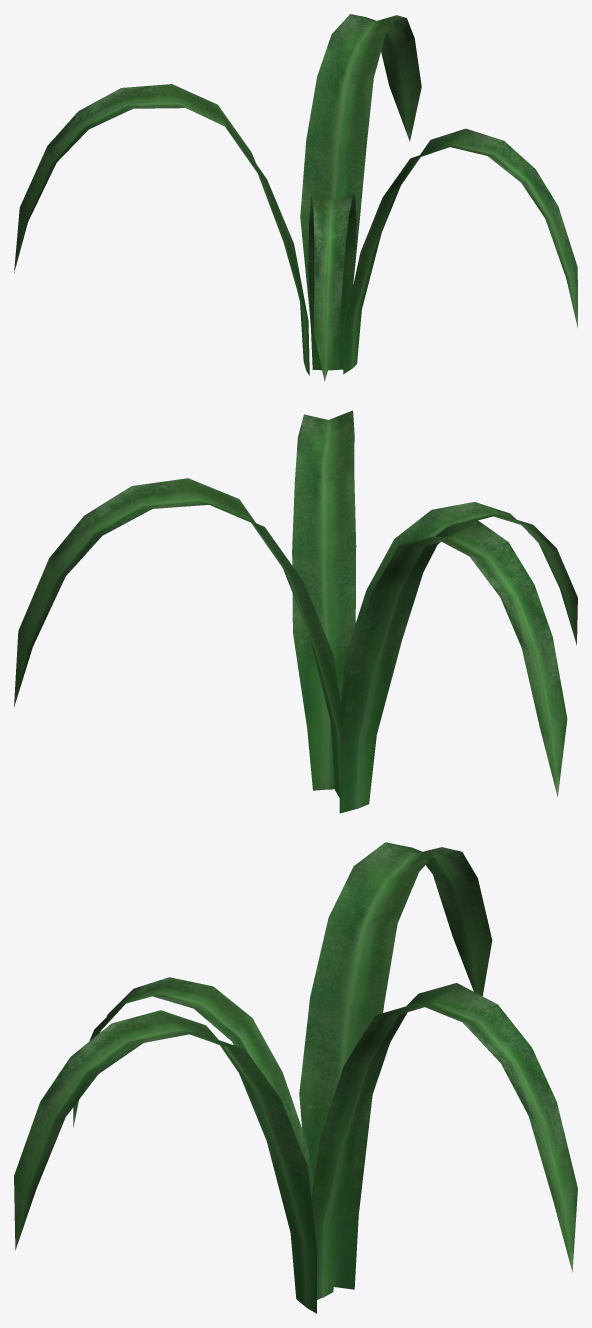
Rendered from Plant3.FBX.
The picture shows the model from 3 angles, top to bottom: view 1: azimuth 30°, elevation 25°; view 2: azimuth 150°, elevation 25°; view 3: azimuth 270°, elevation 25°; orthographic projection. The views are drawn at different scales.
Parts seen in each view (by area): view 1: Plant005; view 2: Plant005; view 3: Plant005.
Part boxes in pixels (x1,y1,x2,y2): Plant005: (14,14,577,381); Plant005: (14,410,577,813); Plant005: (14,842,577,1313).
Size of the model in its own units: 112 by 101 by 70.16.
